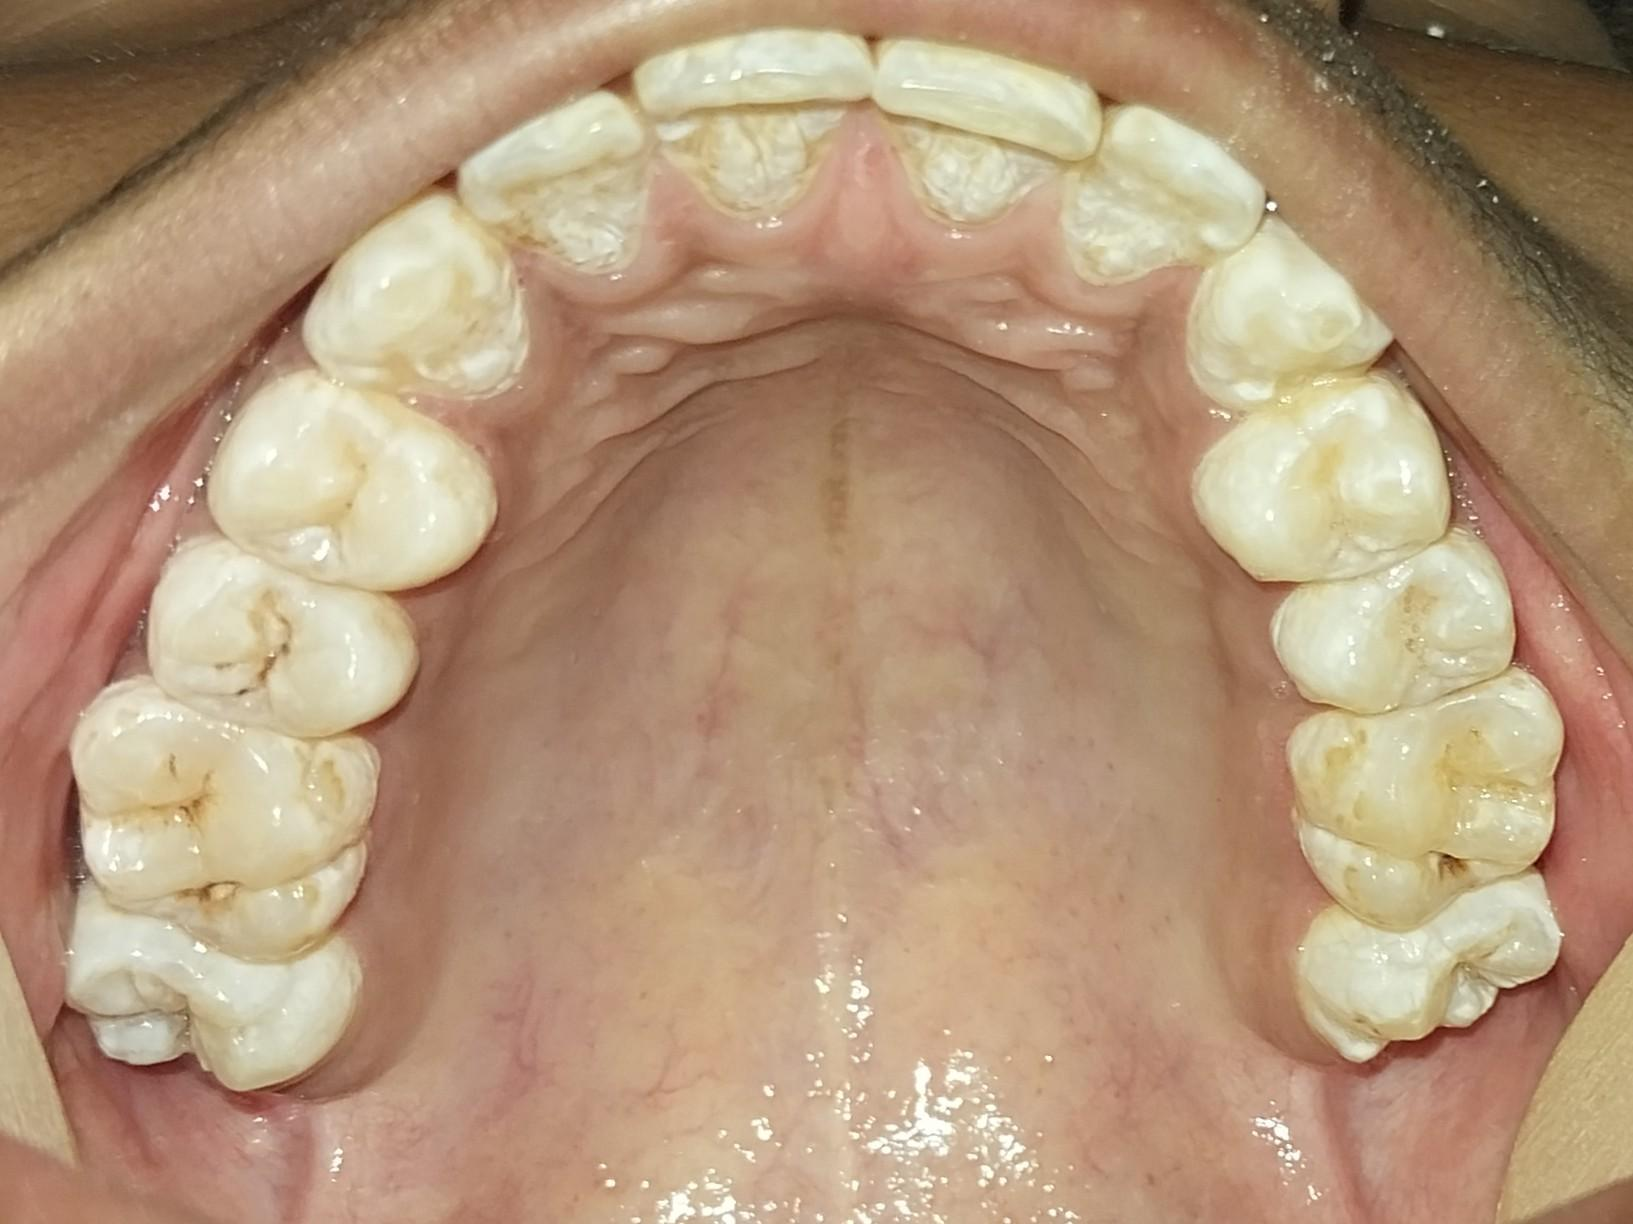D: (69, 691, 380, 966), (1291, 705, 1562, 923), (151, 549, 416, 735)
